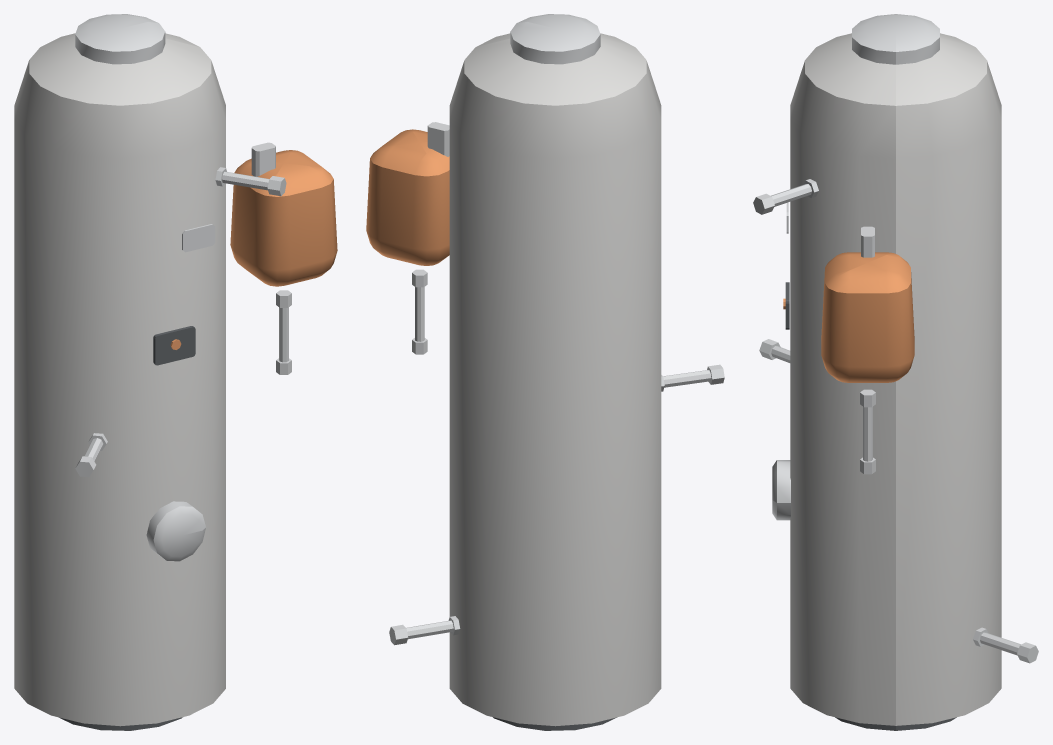
Rendered from cylinder-bkn.glb.
The picture shows the model from 3 angles, left to right: view 1: azimuth 30°, elevation 25°; view 2: azimuth 150°, elevation 25°; view 3: azimuth 270°, elevation 25°; orthographic projection.
Parts seen in each view (by area): view 1: hot-water-cylinder_1, hot-water-cylinder_3, hot-water-cylinder_2, hot-water-cylinder_0; view 2: hot-water-cylinder_1, hot-water-cylinder_3, hot-water-cylinder_2; view 3: hot-water-cylinder_1, hot-water-cylinder_3, hot-water-cylinder_2, hot-water-cylinder_0.
Part boxes in pixels (box(x1,y1,x2,y2)): hot-water-cylinder_1: box(14, 33, 225, 726); hot-water-cylinder_3: box(170, 150, 337, 349); hot-water-cylinder_2: box(75, 14, 291, 561); hot-water-cylinder_0: box(59, 326, 195, 730); hot-water-cylinder_1: box(449, 33, 661, 726); hot-water-cylinder_3: box(366, 129, 449, 265); hot-water-cylinder_2: box(389, 14, 724, 645); hot-water-cylinder_1: box(790, 33, 1001, 725); hot-water-cylinder_3: box(783, 252, 914, 382); hot-water-cylinder_2: box(753, 14, 1038, 663); hot-water-cylinder_0: box(785, 282, 956, 730).
Bounding box in the file's own units: 0.7347 × 1.59 × 0.6122.
